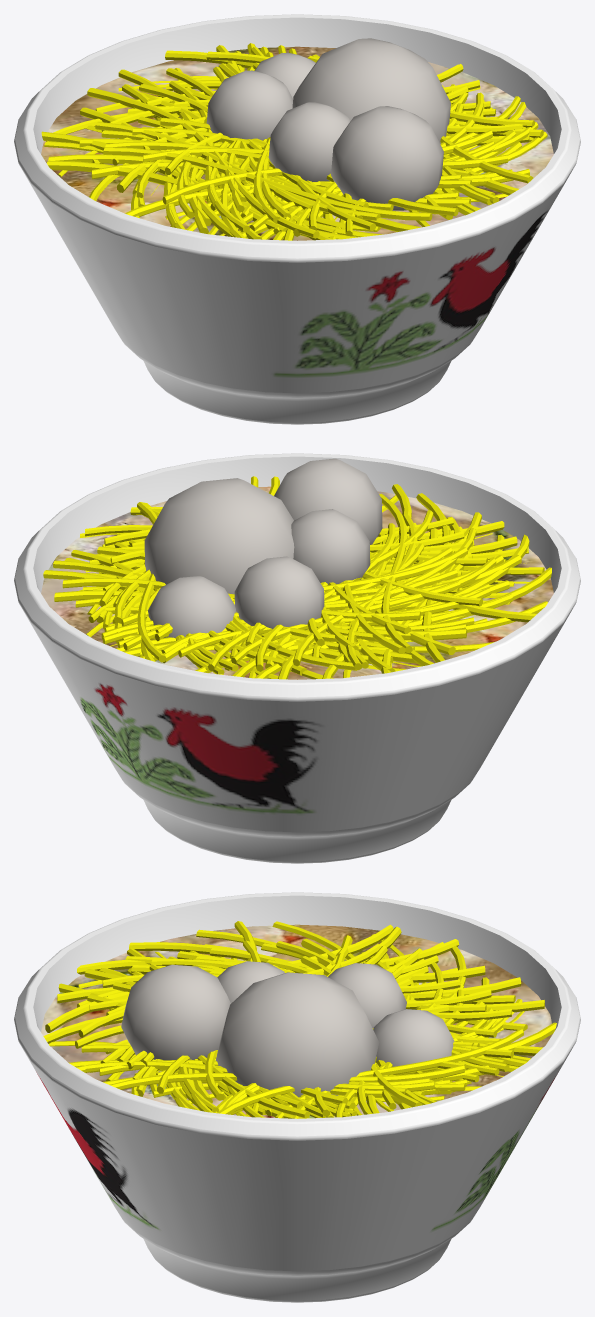
The picture shows the model from 3 angles, top to bottom: view 1: azimuth 30°, elevation 25°; view 2: azimuth 150°, elevation 25°; view 3: azimuth 270°, elevation 25°; orthographic projection.
Visible parts, largest first — view 1: Random.002_2; view 2: Random.002_2; view 3: Random.002_2.
Part boxes in pixels (x1,y1,x2,y2): Random.002_2: (14, 14, 580, 424); Random.002_2: (14, 453, 580, 863); Random.002_2: (14, 892, 580, 1302).
Size of the model in its own units: 3.8 by 2.2 by 3.8.
4 materials, 2 textured.
